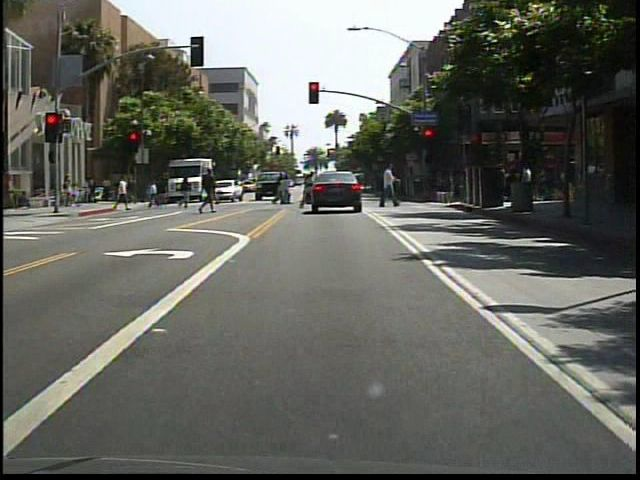person: (377, 162, 402, 213), (198, 168, 219, 217), (303, 170, 322, 211), (115, 173, 132, 215), (177, 173, 194, 213)
